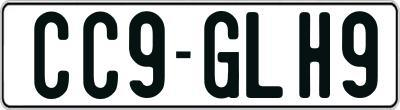9: (340, 9, 379, 96), (126, 10, 162, 97)
C: (32, 9, 71, 100), (82, 9, 118, 99)
G: (203, 10, 244, 97)
H: (298, 9, 334, 96)
L: (246, 10, 289, 96)
